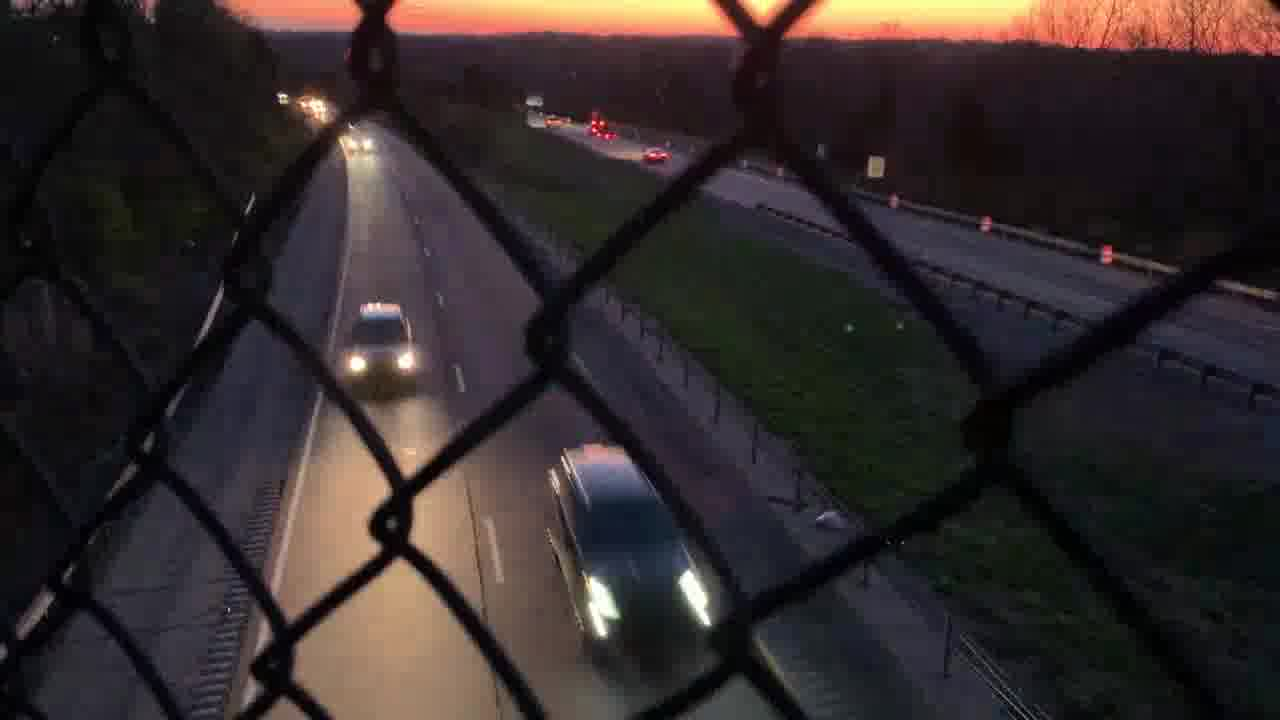largeCar: (537, 449, 715, 657), (348, 301, 418, 393)
smallCar: (640, 143, 672, 167)
